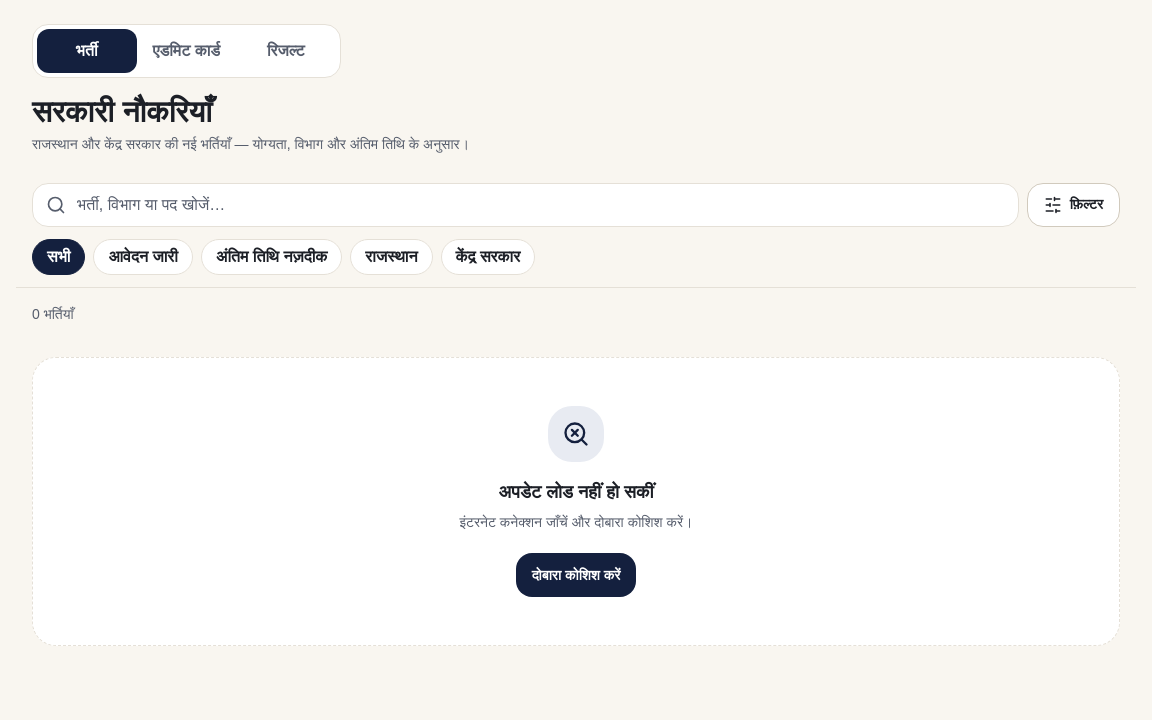
Listing (/jobs) › network errors show a retry that refetches
The width and height of the screenshot is (1152, 720).
Click the button "दोबारा कोशिश करें" at (576, 575), box [516,553,636,597]
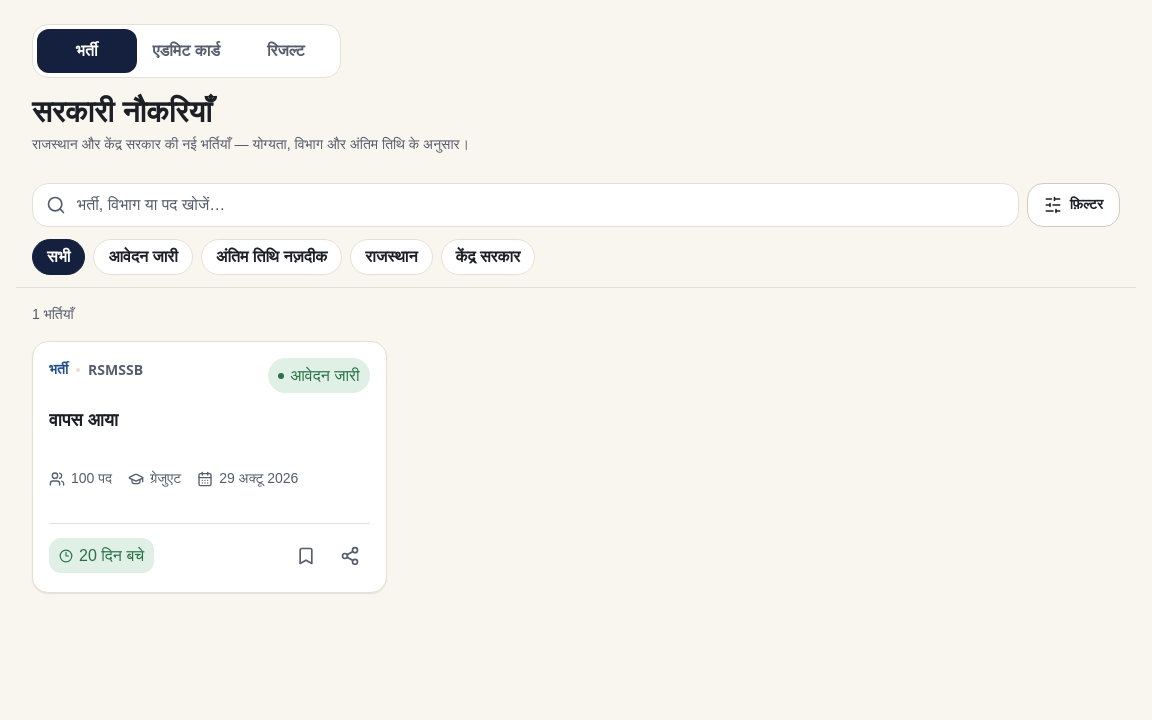
Now the link "वापस आया" is shown, box [49,410,118,430]
